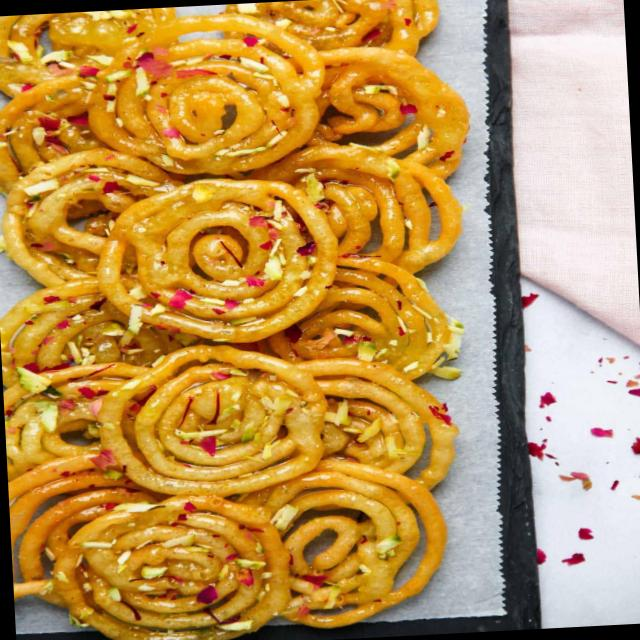jalebi: (0, 1, 475, 640)
